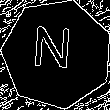N_S: (35, 27, 79, 81)
